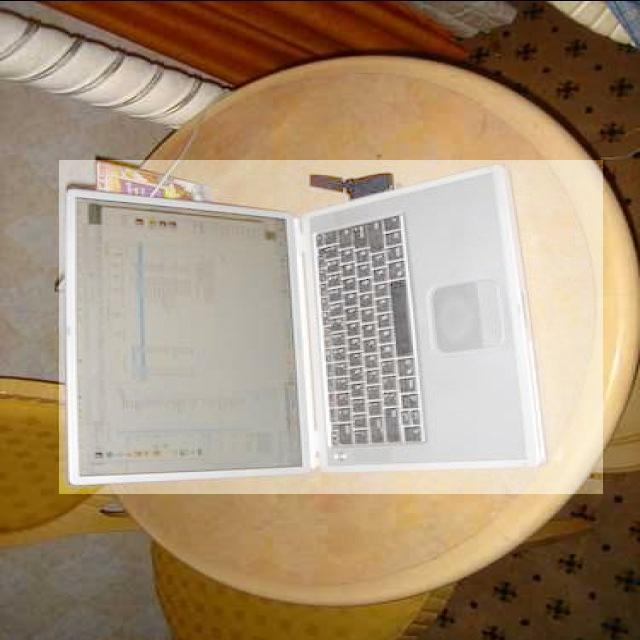-keyboard-: (59, 160, 603, 494)
